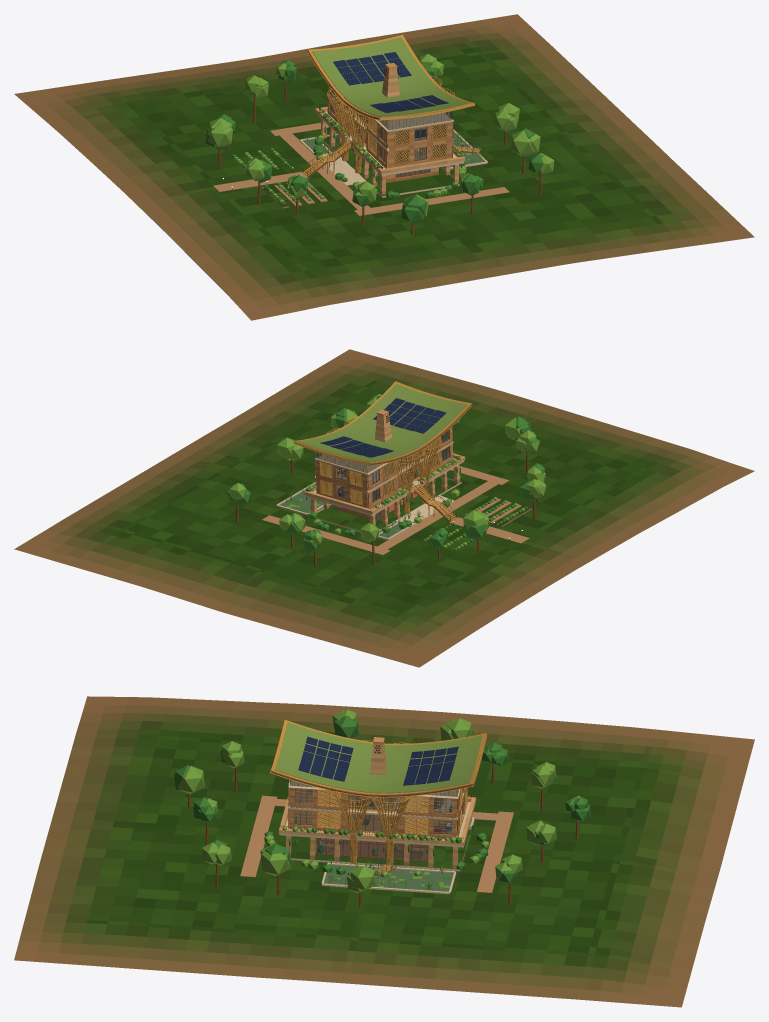
The model's file is maison-tapama.glb.
The picture shows the model from 3 angles, top to bottom: view 1: azimuth 30°, elevation 25°; view 2: azimuth 150°, elevation 25°; view 3: azimuth 270°, elevation 25°; orthographic projection. The views are drawn at different scales.
Visible parts, largest first — view 1: Bat_Herbe_Jardin.001, Bat_Feuillage_clair.001, Bat_Toit_vegetal.001, Bat_Bambou.001, Bat_Feuillage.001, Bat_Allee.001, Bat_Terre_pisee.001, Bat_Panneau_solaire.001, Bat_Bois_sombre.001, Bat_Terre_claire.001, Bat_Dalle.001, Bat_Verre.001 (+2 smaller); view 2: Bat_Herbe_Jardin.001, Bat_Toit_vegetal.001, Bat_Feuillage_clair.001, Bat_Bambou.001, Bat_Feuillage.001, Bat_Allee.001, Bat_Terre_pisee.001, Bat_Panneau_solaire.001, Bat_Bois_sombre.001, Bat_Dalle.001, Bat_Terre_claire.001, Bat_Verre.001 (+1 smaller); view 3: Bat_Herbe_Jardin.001, Bat_Toit_vegetal.001, Bat_Feuillage_clair.001, Bat_Bambou.001, Bat_Feuillage.001, Bat_Verre.001, Bat_Panneau_solaire.001, Bat_Terre_claire.001, Bat_Bois_sombre.001, Bat_Dalle.001, Bat_Allee.001, Bat_Terre_pisee.001 (+4 smaller).
Part boxes in pixels (bbox=[...]): Bat_Herbe_Jardin.001: bbox=[14, 14, 754, 320]; Bat_Feuillage_clair.001: bbox=[208, 53, 554, 216]; Bat_Toit_vegetal.001: bbox=[312, 37, 469, 117]; Bat_Bambou.001: bbox=[303, 42, 480, 176]; Bat_Feuillage.001: bbox=[205, 60, 543, 223]; Bat_Allee.001: bbox=[213, 122, 509, 215]; Bat_Terre_pisee.001: bbox=[327, 63, 453, 182]; Bat_Panneau_solaire.001: bbox=[333, 52, 448, 112]; Bat_Bois_sombre.001: bbox=[218, 50, 541, 235]; Bat_Terre_claire.001: bbox=[315, 66, 465, 194]; Bat_Dalle.001: bbox=[299, 91, 487, 197]; Bat_Verre.001: bbox=[330, 88, 452, 176]; Bat_Herbe_Jardin.001: bbox=[14, 349, 754, 667]; Bat_Toit_vegetal.001: bbox=[298, 383, 467, 462]; Bat_Feuillage_clair.001: bbox=[229, 394, 546, 548]; Bat_Bambou.001: bbox=[294, 391, 468, 521]; Bat_Feuillage.001: bbox=[227, 395, 545, 551]; Bat_Allee.001: bbox=[262, 466, 531, 555]; Bat_Terre_pisee.001: bbox=[315, 409, 453, 520]; Bat_Panneau_solaire.001: bbox=[320, 398, 446, 457]; Bat_Bois_sombre.001: bbox=[236, 404, 538, 566]; Bat_Dalle.001: bbox=[276, 439, 464, 539]; Bat_Terre_claire.001: bbox=[304, 413, 465, 525]; Bat_Verre.001: bbox=[316, 430, 449, 519]; Bat_Herbe_Jardin.001: bbox=[14, 696, 754, 1007]; Bat_Toit_vegetal.001: bbox=[274, 722, 482, 793]; Bat_Feuillage_clair.001: bbox=[178, 709, 585, 893]; Bat_Bambou.001: bbox=[270, 733, 483, 884]; Bat_Feuillage.001: bbox=[174, 715, 590, 890]; Bat_Verre.001: bbox=[290, 780, 464, 861]; Bat_Panneau_solaire.001: bbox=[298, 736, 458, 785]; Bat_Terre_claire.001: bbox=[279, 741, 476, 868]; Bat_Bois_sombre.001: bbox=[187, 764, 578, 906]; Bat_Dalle.001: bbox=[279, 780, 475, 894]; Bat_Allee.001: bbox=[240, 795, 513, 892]; Bat_Terre_pisee.001: bbox=[288, 737, 467, 860].
Size of the model in its own units: 116 by 23.52 by 126.
